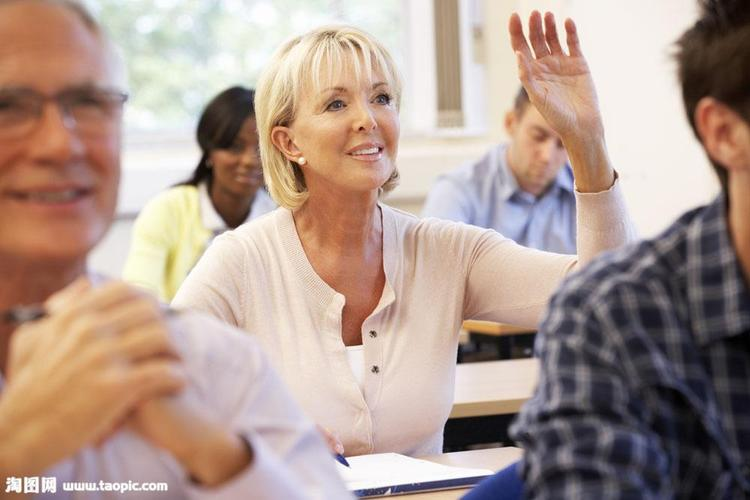no-phone: (506, 7, 605, 138)
